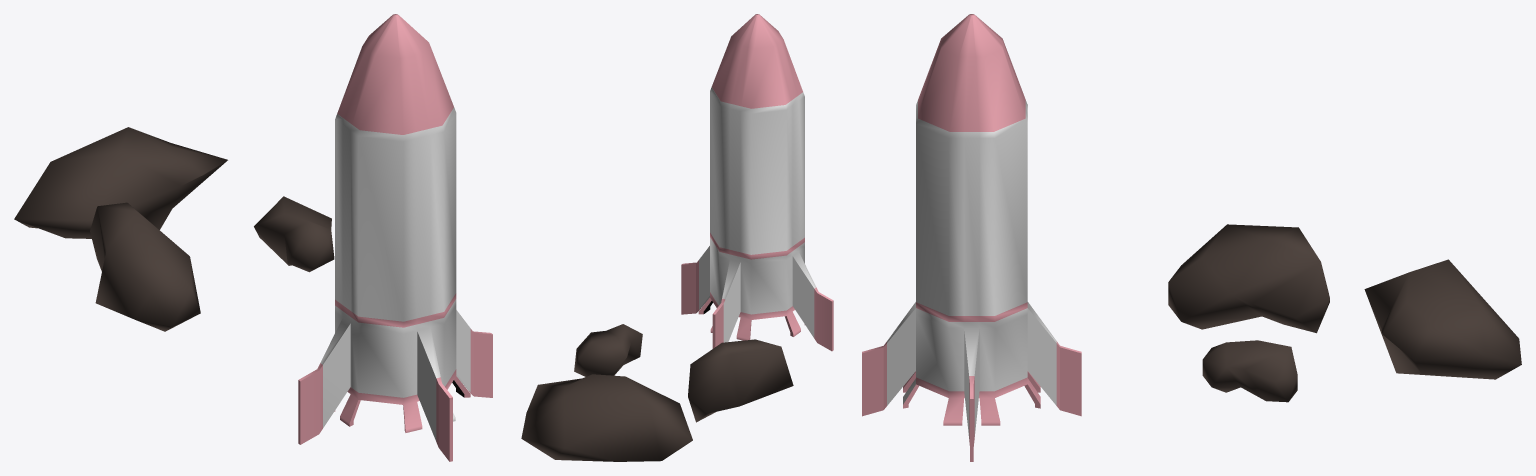
File: models1.fbx
3 views of the same model, side by side, from view 1: azimuth 30°, elevation 25°; view 2: azimuth 150°, elevation 25°; view 3: azimuth 270°, elevation 25° (orthographic). The views are drawn at different scales.
Parts seen in each view (by area): view 1: Cylinder, Icosphere.002, Icosphere.001, Icosphere; view 2: Cylinder, Icosphere.002, Icosphere.001, Icosphere; view 3: Cylinder, Icosphere.001, Icosphere.002, Icosphere.
Part boxes in pixels (bbox=[...]): Cylinder: bbox=[298, 14, 492, 461]; Icosphere.002: bbox=[14, 127, 227, 238]; Icosphere.001: bbox=[90, 202, 200, 331]; Icosphere: bbox=[254, 196, 334, 272]; Cylinder: bbox=[681, 14, 833, 351]; Icosphere.002: bbox=[521, 374, 692, 461]; Icosphere.001: bbox=[688, 339, 793, 422]; Icosphere: bbox=[574, 324, 642, 376]; Cylinder: bbox=[862, 14, 1081, 461]; Icosphere.001: bbox=[1168, 224, 1329, 333]; Icosphere.002: bbox=[1364, 259, 1521, 379]; Icosphere: bbox=[1202, 340, 1297, 402].
Size of the model in its own units: 1104 by 1588 by 2372.
